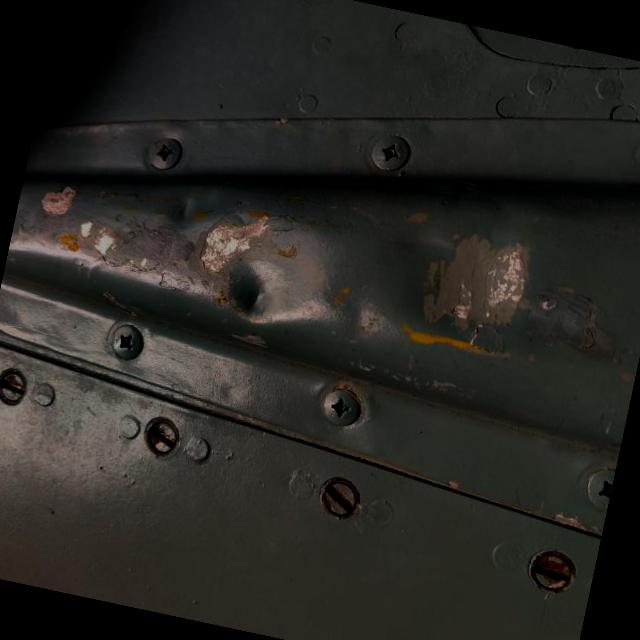dent: (192, 223, 335, 361)
paint-off: (394, 204, 556, 364)
